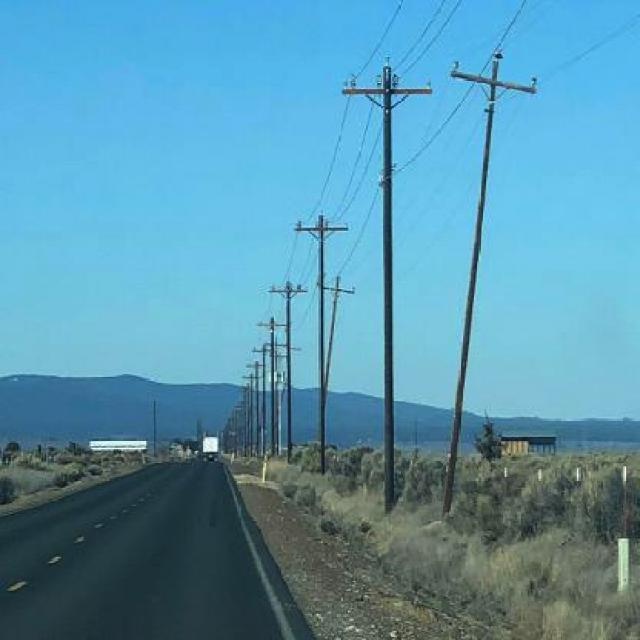crossarm: (451, 70, 535, 93), (343, 87, 432, 95), (324, 287, 355, 294), (296, 228, 349, 232), (259, 324, 287, 327), (269, 290, 308, 292), (253, 350, 271, 353), (250, 364, 265, 366)
pole: (443, 59, 500, 521), (384, 68, 395, 516), (323, 277, 340, 404), (319, 216, 326, 477), (286, 281, 292, 460), (271, 318, 276, 458), (255, 361, 259, 458), (263, 349, 266, 461)
wire: (391, 0, 528, 178), (302, 96, 350, 226), (326, 102, 375, 226), (329, 121, 383, 229), (396, 0, 463, 80), (390, 0, 445, 77), (336, 185, 379, 277), (354, 0, 404, 79)
